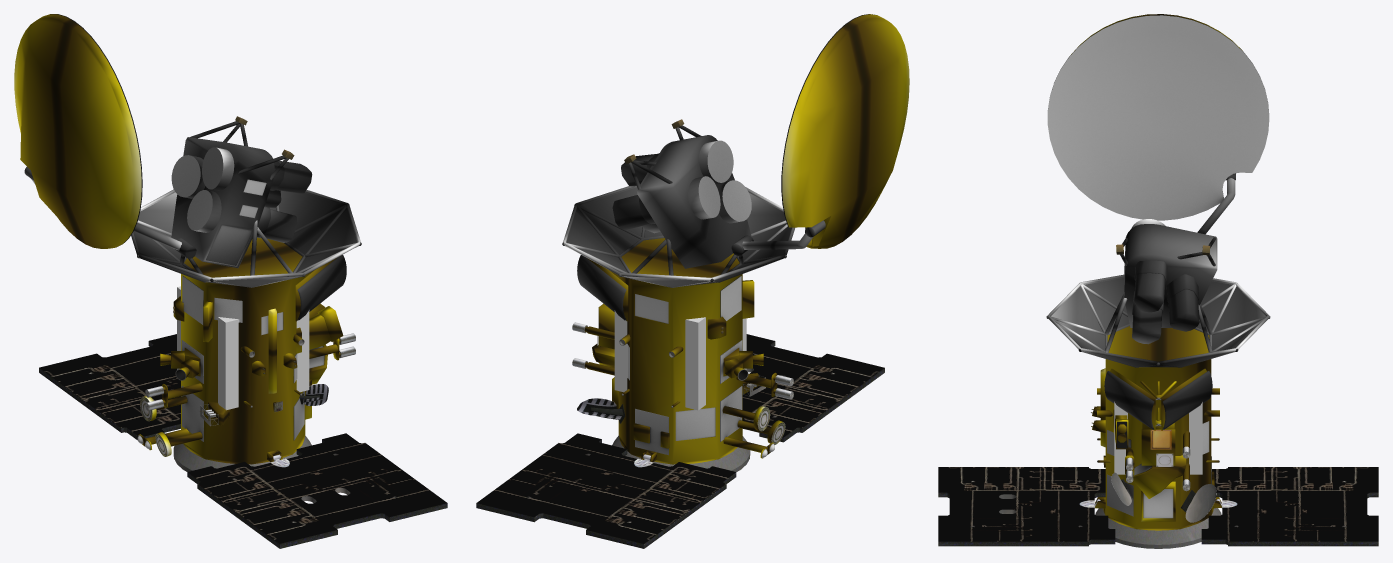
The model's file is Aquarius (unfurled).glb.
The picture shows the model from 3 angles, left to right: view 1: azimuth 30°, elevation 25°; view 2: azimuth 150°, elevation 25°; view 3: azimuth 270°, elevation 25°; orthographic projection. The views are drawn at different scales.
Visible parts, largest first — view 1: foil_gold, tex_02, foil_silver, AO_other_dep, tex_01, _root; view 2: foil_gold, tex_02, foil_silver, AO_other_dep, tex_01, _root; view 3: AO_dish_dep, tex_02, foil_silver, foil_gold, tex_01, AO_other_dep, _root.
Boxes of the visible parts, x1,y1,x2,y2 form: foil_gold: (14, 14, 343, 464); tex_02: (39, 334, 446, 543); foil_silver: (24, 121, 361, 320); AO_other_dep: (137, 147, 324, 449); tex_01: (39, 116, 447, 548); _root: (177, 286, 309, 410); foil_gold: (584, 14, 909, 464); tex_02: (476, 334, 884, 543); foil_silver: (562, 125, 825, 320); AO_other_dep: (628, 140, 774, 457); tex_01: (476, 119, 884, 548); _root: (614, 310, 746, 410); AO_dish_dep: (1047, 15, 1269, 220); tex_02: (938, 467, 1378, 541); foil_silver: (1046, 173, 1270, 429); foil_gold: (1071, 14, 1242, 530); tex_01: (938, 244, 1378, 548); AO_other_dep: (1107, 421, 1211, 518); _root: (1114, 401, 1202, 474).
Size of the model in its own units: 3.49 by 5.38 by 4.97.
9 materials, 9 textured.
